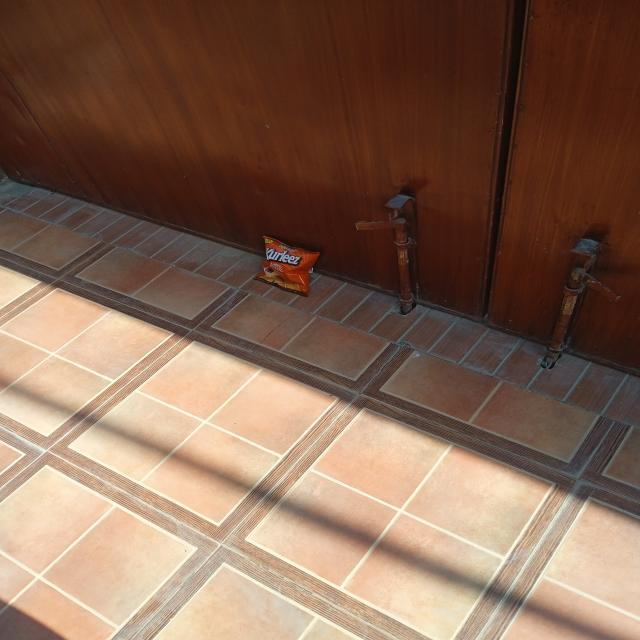Plastic: (246, 232, 324, 296)
